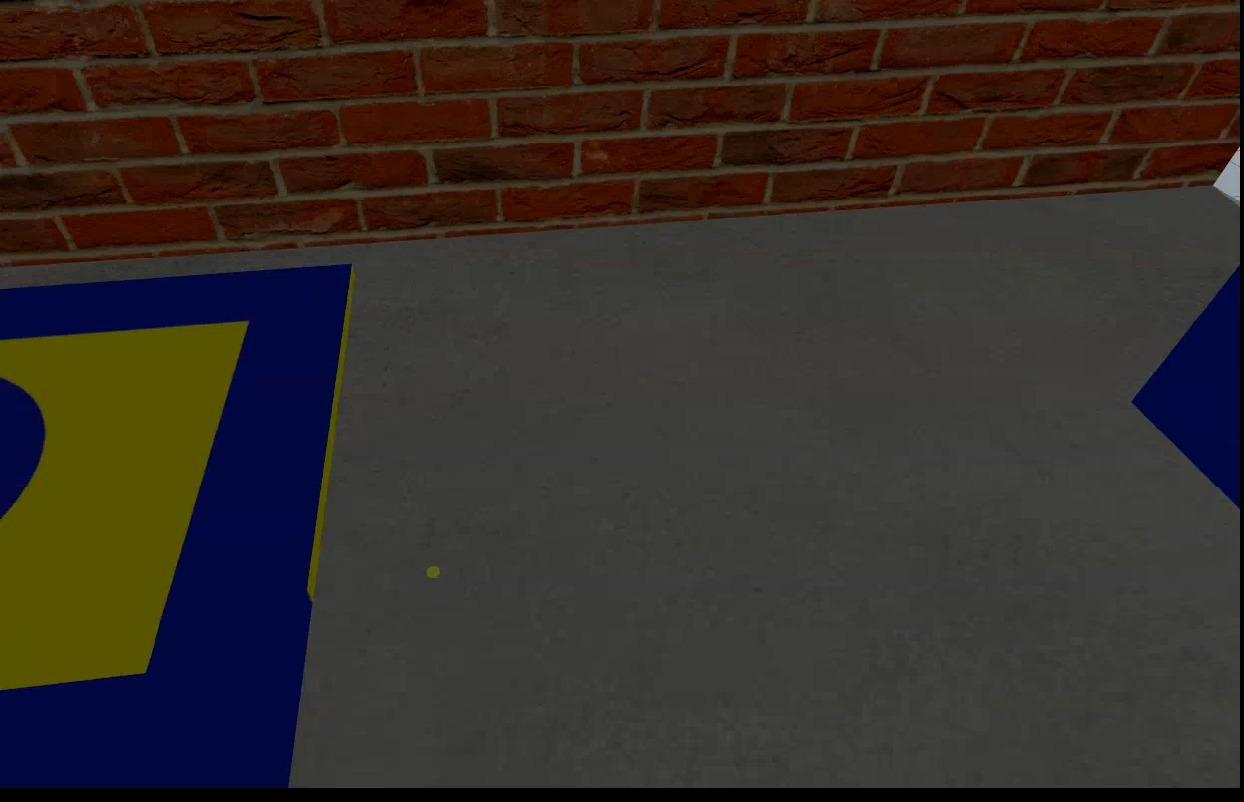large_base: (0, 259, 363, 784)
